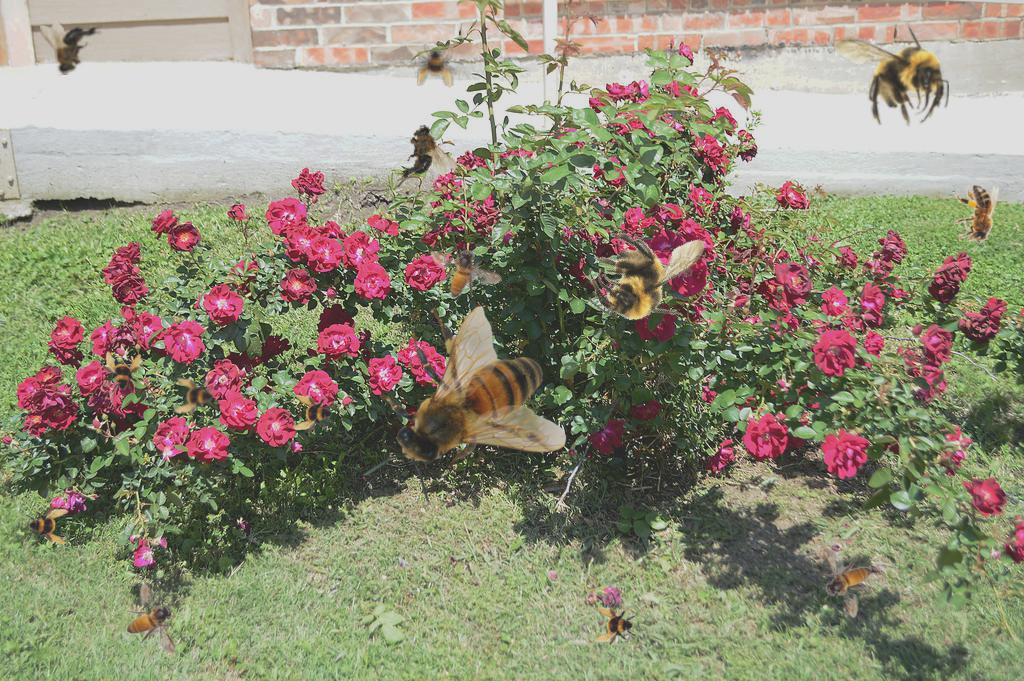Bee: (363, 306, 567, 505), (570, 194, 725, 351), (834, 20, 949, 127), (418, 228, 504, 315), (386, 119, 459, 185), (126, 583, 176, 654), (822, 547, 872, 618), (40, 22, 102, 75), (954, 185, 999, 251), (594, 605, 638, 649), (24, 502, 68, 546), (415, 44, 459, 88), (174, 376, 218, 420), (293, 393, 337, 437), (99, 351, 143, 395)
